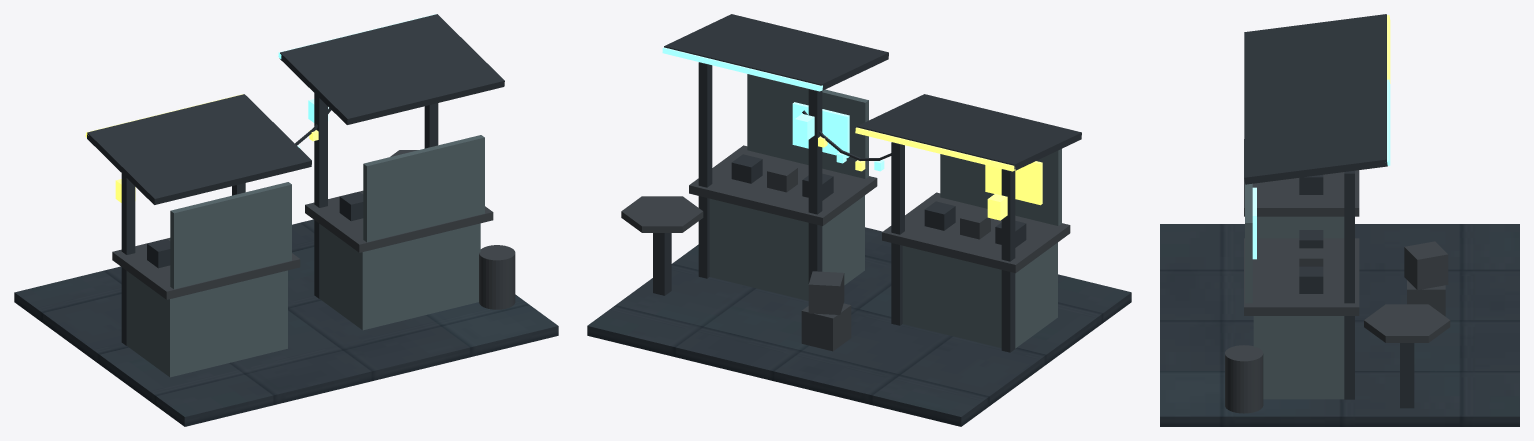
The model's file is synthwave-market.glb.
The picture shows the model from 3 angles, left to right: view 1: azimuth 30°, elevation 25°; view 2: azimuth 150°, elevation 25°; view 3: azimuth 270°, elevation 25°; orthographic projection. The views are drawn at different scales.
Visible parts, largest first — view 1: Mkt_Body, Mkt_Frame, Pad, Mkt_Door; view 2: Pad, Mkt_Body, Mkt_Frame, Mkt_Door, Mkt_DimA, Mkt_DimB; view 3: Pad, Mkt_Frame, Mkt_Door, Mkt_Body, Mkt_DimB.
Part boxes in pixels (bbox=[...]): Mkt_Body: bbox=[127, 135, 484, 377]; Mkt_Frame: bbox=[87, 14, 504, 345]; Pad: bbox=[14, 219, 558, 426]; Mkt_Door: bbox=[112, 150, 515, 309]; Pad: bbox=[587, 227, 1131, 426]; Mkt_Body: bbox=[709, 74, 1061, 348]; Mkt_Frame: bbox=[653, 14, 1081, 352]; Mkt_Door: bbox=[621, 145, 1070, 351]; Mkt_DimA: bbox=[818, 127, 1042, 220]; Mkt_DimB: bbox=[662, 47, 884, 171]; Pad: bbox=[1160, 224, 1519, 426]; Mkt_Frame: bbox=[1244, 14, 1414, 408]; Mkt_Door: bbox=[1225, 139, 1450, 413]; Mkt_Body: bbox=[1245, 183, 1344, 399]; Mkt_DimB: bbox=[1252, 79, 1390, 259].
Bounding box in the file's own units: 0.9729 × 0.5989 × 0.75.
Materials: 6 (1 with a texture image).
